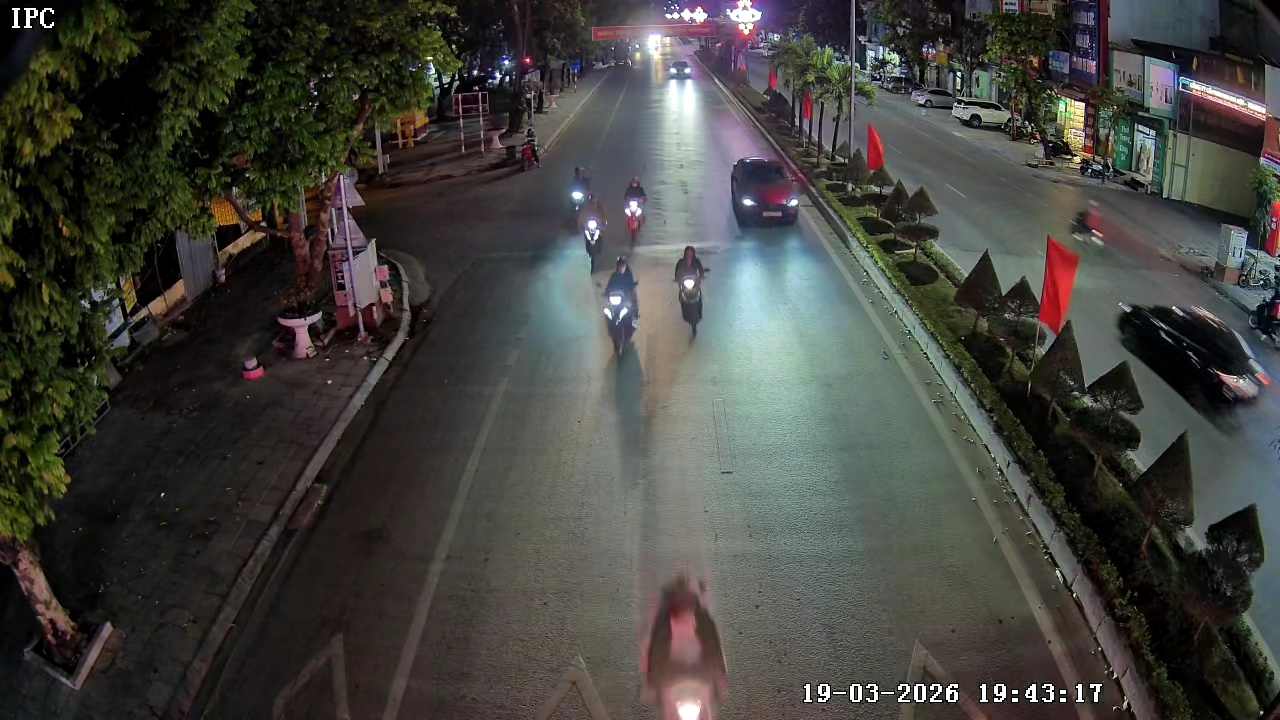car: (729, 154, 800, 228), (669, 59, 693, 83)
motorbike: (597, 256, 645, 364), (672, 243, 711, 333), (581, 195, 608, 273), (621, 173, 649, 247), (563, 163, 586, 229)
